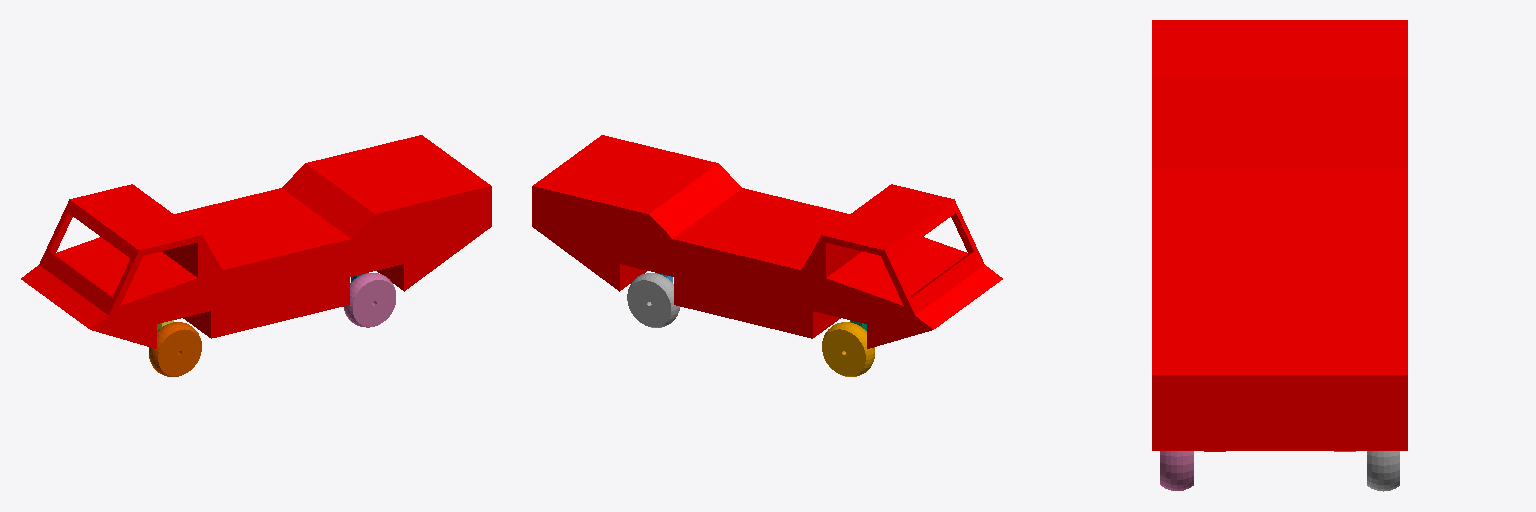
--- What the picture shows (computed from the rendered views, not written in the file) ---
The picture shows the robot from 3 angles, left to right: view 1: azimuth 30°, elevation 25°; view 2: azimuth 150°, elevation 25°; view 3: azimuth 270°, elevation 25°; orthographic projection.
Robot: robot — 9 links, 8 joints (8 continuous); root link b_CraneBody_001_; default pose: all joints at 0.
Links seen in each view (by area): view 1: b_CraneBody_001_, b_Wheel_001_, b_Wheel_001_001; view 2: b_CraneBody_001_, b_Wheel_001_003, b_Wheel_001_002; view 3: b_CraneBody_001_, b_Wheel_001_001, b_Wheel_001_002.
Boxes of the visible links, bbox=[...] form: b_CraneBody_001_: bbox=[21, 135, 491, 348]; b_Wheel_001_: bbox=[149, 322, 201, 376]; b_Wheel_001_001: bbox=[344, 273, 395, 327]; b_CraneBody_001_: bbox=[532, 135, 1002, 348]; b_Wheel_001_003: bbox=[822, 322, 874, 376]; b_Wheel_001_002: bbox=[627, 273, 679, 327]; b_CraneBody_001_: bbox=[1152, 20, 1407, 450]; b_Wheel_001_001: bbox=[1160, 451, 1193, 490]; b_Wheel_001_002: bbox=[1367, 451, 1399, 491].
Bounding box of the posed robot: 133 × 40 × 44.51 m (x, y, z).
Meshes: 9 distinct files referenced, 9 mesh visuals loaded (9 OBJ).

URDF robot description (robot):
<?xml version="1.0" ?>
<robot name="robot">
    
    
    
    
    
    
    
    
    
    
    
    
    
    
    <link name="b_CraneBody_001_">
        
        
        
        
        
        
        
        
        
        
        
        
        
        
        <visual>
            
            
            
            
            
            
            
            
            
            
            
            
            
            
            <geometry>
                
                
                
                
                
                
                
                
                
                
                
                
                
                
                <mesh filename="b_CraneBody_001_.obj"/>
                
                
                
                
                
                
                
            
            
            
            
            
            
            
            </geometry>
            
            
            
            
            
            
            
            
            
            
            
            
            
            
            <origin xyz="0 0 0" rpy="0 0 0"/>
            
            
            
            
            
            
            
            
            
            
            
            
            
            
            <material name="visual_material">
                
                
                
                
                
                
                
                
                
                
                
                
                
                
                <color rgba="1 0 0 1"/>
                
                
                
                
                
                
                
            
            
            
            
            
            
            
            </material>
            
            
            
            
            
            
            
        
        
        
        
        
        
        
        </visual>
        
        
        
        
        
        
        
        
        
        
        
        
        
        
        <inertial>
            
            
            
            
            
            
            
            
            
            
            
            
            
            
            <mass value="1"/>
            
            
            
            
            
            
            
            
            
            
            
            
            
            
            <origin xyz="0 0 0" rpy="0 0 0"/>
            
            
            
            
            
            
            
            
            
            
            
            
            
            
            <inertia ixx="1" ixy="0" ixz="0" iyy="1" iyz="0" izz="1"/>
            
            
            
            
            
            
            
        
        
        
        
        
        
        
        </inertial>
        
        
        
        
        
        
        
        
        
        
        
        
        
        
        <collision>
            
            
            
            
            
            
            
            
            
            
            
            
            
            
            <geometry>
                
                
                
                
                
                
                
                
                
                
                
                
                
                
                <mesh filename="b_CraneBody_001_.obj"/>
                
                
                
                
                
                
                
            
            
            
            
            
            
            
            </geometry>
            
            
            
            
            
            
            
            
            
            
            
            
            
            
            <origin xyz="0 0 0" rpy="0 0 0"/>
            
            
            
            
            
            
            
        
        
        
        
        
        
        
        </collision>
        
        
        
        
        
        
        
    
    
    
    
    
    
    
    </link>
    
    
    
    
    
    
    
    
    
    
    
    
    
    
    <joint name="Revolute_continuous_001" type="continuous">
        
        
        
        
        
        
        
        
        
        
        
        
        
        
        <parent link="b_CraneBody_001_"/>
        
        
        
        
        
        
        
        
        
        
        
        
        
        
        <child link="b_WheelTurner_001_"/>
        
        
        
        
        
        
        
        
        
        
        
        
        
        
        <origin rpy="0 0 0" xyz="17.254223000000007 -10.000000000000002 8.006339732172137"/>
        
        
        
        
        
        
        
        
        
        
        
        
        
        
        <axis xyz="0.0 0.0 1.0"/>
        
        
        
        
        
        
        
        
        
        
        
        
        
        
        <limit velocity="10000000"/>
        
        
        
        
        
        
        
    
    
    
    
    
    
    
    </joint>
    
    
    
    
    
    
    
    
    
    
    
    
    
    
    <link name="b_WheelTurner_001_">
        
        
        
        
        
        
        
        
        
        
        
        
        
        
        <visual>
            
            
            
            
            
            
            
            
            
            
            
            
            
            
            <origin xyz="-17.254223000000007 10.000000000000002 -8.006339732172137" rpy="0 0 0"/>
            
            
            
            
            
            
            
            
            
            
            
            
            
            
            <geometry>
                
                
                
                
                
                
                
                
                
                
                
                
                
                
                <mesh filename="b_WheelTurner_001_.obj"/>
                
                
                
                
                
                
                
            
            
            
            
            
            
            
            </geometry>
            
            
            
            
            
            
            
        
        
        
        
        
        
        
        </visual>
        
        
        
        
        
        
        
        
        
        
        
        
        
        
        <inertial>
            
            
            
            
            
            
            
            
            
            
            
            
            
            
            <mass value="1"/>
            
            
            
            
            
            
            
            
            
            
            
            
            
            
            <origin xyz="0 0 0"/>
            
            
            
            
            
            
            
            
            
            
            
            
            
            
            <inertia ixx="1065.454346" ixy="-0.000000" ixz="-0.000000" iyy="977.780767" iyz="94.756588" izz="430.317097"/>
            
            
            
            
            
            
            
        
        
        
        
        
        
        
        </inertial>
        
        
        
        
        
        
        
        
        
        
        
        
        
        
        <collision>
            
            
            
            
            
            
            
            
            
            
            
            
            
            
            <geometry>
                
                
                
                
                
                
                
                
                
                
                
                
                
                
                <mesh filename="b_WheelTurner_001_.obj"/>
                
                
                
                
                
                
                
            
            
            
            
            
            
            
            </geometry>
            
            
            
            
            
            
            
            
            
            
            
            
            
            
            <origin xyz="-17.254223000000007 10.000000000000002 -8.006339732172137" rpy="0 0 0"/>
            
            
            
            
            
            
            
        
        
        
        
        
        
        
        </collision>
        
        
        
        
        
        
        
    
    
    
    
    
    
    
    </link>
    
    
    
    
    
    
    

    
    
    
    
    
    
    <joint name="Revolute_continuous_002" type="continuous">
        
        
        
        
        
        
        
        
        
        
        
        
        <parent link="b_CraneBody_001_"/>
        
        
        
        
        
        
        
        
        
        
        
        
        <child link="b_WheelTurner_001_001"/>
        
        
        
        
        
        
        
        
        
        
        
        
        <origin rpy="0 0 0" xyz="-47.15060000000001 -10.000000000000002 8.006339732172137"/>
        
        
        
        
        
        
        
        
        
        
        
        
        <axis xyz="0.0 0.0 1.0"/>
        
        
        
        
        
        
        
        
        
        
        
        
        <limit velocity="10000000"/>
        
        
        
        
        
        
    
    
    
    
    
    
    </joint>
    
    
    
    
    
    
    
    
    
    
    
    
    <link name="b_WheelTurner_001_001">
        
        
        
        
        
        
        
        
        
        
        
        
        <visual>
            
            
            
            
            
            
            
            
            
            
            
            
            <origin xyz="47.15060000000001 10.000000000000002 -8.006339732172137" rpy="0 0 0"/>
            
            
            
            
            
            
            
            
            
            
            
            
            <geometry>
                
                
                
                
                
                
                
                
                
                
                
                
                <mesh filename="b_WheelTurner_001_001.obj"/>
                
                
                
                
                
                
            
            
            
            
            
            
            </geometry>
            
            
            
            
            
            
        
        
        
        
        
        
        </visual>
        
        
        
        
        
        
        
        
        
        
        
        
        <inertial>
            
            
            
            
            
            
            
            
            
            
            
            
            <mass value="1"/>
            
            
            
            
            
            
            
            
            
            
            
            
            <origin xyz="0 0 0"/>
            
            
            
            
            
            
            
            
            
            
            
            
            <inertia ixx="1065.454346" ixy="-0.000000" ixz="-0.000000" iyy="977.780767" iyz="94.756588" izz="430.317097"/>
            
            
            
            
            
            
        
        
        
        
        
        
        </inertial>
        
        
        
        
        
        
        
        
        
        
        
        
        <collision>
            
            
            
            
            
            
            
            
            
            
            
            
            <geometry>
                
                
                
                
                
                
                
                
                
                
                
                
                <mesh filename="b_WheelTurner_001_001.obj"/>
                
                
                
                
                
                
            
            
            
            
            
            
            </geometry>
            
            
            
            
            
            
            
            
            
            
            
            
            <origin xyz="47.15060000000001 10.000000000000002 -8.006339732172137" rpy="0 0 0"/>
            
            
            
            
            
            
        
        
        
        
        
        
        </collision>
        
        
        
        
        
        
    
    
    
    
    
    
    </link>
    
    
    
    
    
    

    
    
    
    
    
    <joint name="Revolute_continuous_003" type="continuous">
        
        
        
        
        
        
        
        
        
        
        <parent link="b_CraneBody_001_"/>
        
        
        
        
        
        
        
        
        
        
        <child link="b_WheelTurner_001_002"/>
        
        
        
        
        
        
        
        
        
        
        <origin rpy="0 0 0" xyz="-47.15060000000001 -30.000000000000004 8.006339732172131"/>
        
        
        
        
        
        
        
        
        
        
        <axis xyz="0.0 0.0 1.0"/>
        
        
        
        
        
        
        
        
        
        
        <limit velocity="10000000"/>
        
        
        
        
        
    
    
    
    
    
    </joint>
    
    
    
    
    
    
    
    
    
    
    <link name="b_WheelTurner_001_002">
        
        
        
        
        
        
        
        
        
        
        <visual>
            
            
            
            
            
            
            
            
            
            
            <origin xyz="47.15060000000001 30.000000000000004 -8.006339732172131" rpy="0 0 0"/>
            
            
            
            
            
            
            
            
            
            
            <geometry>
                
                
                
                
                
                
                
                
                
                
                <mesh filename="b_WheelTurner_001_002.obj"/>
                
                
                
                
                
            
            
            
            
            
            </geometry>
            
            
            
            
            
        
        
        
        
        
        </visual>
        
        
        
        
        
        
        
        
        
        
        <inertial>
            
            
            
            
            
            
            
            
            
            
            <mass value="1"/>
            
            
            
            
            
            
            
            
            
            
            <origin xyz="0 0 0"/>
            
            
            
            
            
            
            
            
            
            
            <inertia ixx="1065.454346" ixy="-0.000000" ixz="0.000000" iyy="977.780767" iyz="-94.756588" izz="430.317097"/>
            
            
            
            
            
        
        
        
        
        
        </inertial>
        
        
        
        
        
        
        
        
        
        
        <collision>
            
            
            
            
            
            
            
            
            
            
            <geometry>
                
                
                
                
                
                
                
                
                
                
                <mesh filename="b_WheelTurner_001_002.obj"/>
                
                
                
                
                
            
            
            
            
            
            </geometry>
            
            
            
            
            
            
            
            
            
            
            <origin xyz="47.15060000000001 30.000000000000004 -8.006339732172131" rpy="0 0 0"/>
            
            
            
            
            
        
        
        
        
        
        </collision>
        
        
        
        
        
    
    
    
    
    
    </link>
    
    
    
    
    

    
    
    
    
    <joint name="Revolute_continuous_004" type="continuous">
        
        
        
        
        
        
        
        
        <parent link="b_CraneBody_001_"/>
        
        
        
        
        
        
        
        
        <child link="b_WheelTurner_001_003"/>
        
        
        
        
        
        
        
        
        <origin rpy="0 0 0" xyz="17.254223000000007 -30.000000000000004 8.006339732172131"/>
        
        
        
        
        
        
        
        
        <axis xyz="0.0 0.0 1.0"/>
        
        
        
        
        
        
        
        
        <limit velocity="10000000"/>
        
        
        
        
    
    
    
    
    </joint>
    
    
    
    
    
    
    
    
    <link name="b_WheelTurner_001_003">
        
        
        
        
        
        
        
        
        <visual>
            
            
            
            
            
            
            
            
            <origin xyz="-17.254223000000007 30.000000000000004 -8.006339732172131" rpy="0 0 0"/>
            
            
            
            
            
            
            
            
            <geometry>
                
                
                
                
                
                
                
                
                <mesh filename="b_WheelTurner_001_003.obj"/>
                
                
                
                
            
            
            
            
            </geometry>
            
            
            
            
        
        
        
        
        </visual>
        
        
        
        
        
        
        
        
        <inertial>
            
            
            
            
            
            
            
            
            <mass value="1"/>
            
            
            
            
            
            
            
            
            <origin xyz="0 0 0"/>
            
            
            
            
            
            
            
            
            <inertia ixx="1065.454346" ixy="-0.000000" ixz="-0.000000" iyy="977.780767" iyz="-94.756588" izz="430.317097"/>
            
            
            
            
        
        
        
        
        </inertial>
        
        
        
        
        
        
        
        
        <collision>
            
            
            
            
            
            
            
            
            <geometry>
                
                
                
                
                
                
                
                
                <mesh filename="b_WheelTurner_001_003.obj"/>
                
                
                
                
            
            
            
            
            </geometry>
            
            
            
            
            
            
            
            
            <origin xyz="-17.254223000000007 30.000000000000004 -8.006339732172131" rpy="0 0 0"/>
            
            
            
            
        
        
        
        
        </collision>
        
        
        
        
    
    
    
    
    </link>
    
    
    
    

    
    
    
    <joint name="Revolute_continuous_005" type="continuous">
        
        
        
        
        
        
        <parent link="b_WheelTurner_001_002"/>
        
        
        
        
        
        
        <child link="b_Wheel_001_"/>
        
        
        
        
        
        
        <origin rpy="0 0 0" xyz="3.7030432054052653e-09 -3.9615950869385976 -6.565306782709249"/>
        
        
        
        
        
        
        <axis xyz="0.0 -1.0 -4.440892098500626e-16"/>
        
        
        
        
        
        
        <limit velocity="10000000"/>
        
        
        
    
    
    
    </joint>
    
    
    
    
    
    
    <link name="b_Wheel_001_">
        
        
        
        
        
        
        <visual>
            
            
            
            
            
            
            <origin xyz="47.15059999629697 33.9615950869386 -1.4410329494628824" rpy="0 0 0"/>
            
            
            
            
            
            
            <geometry>
                
                
                
                
                
                
                <mesh filename="b_Wheel_001_.obj"/>
                
                
                
            
            
            
            </geometry>
            
            
            
        
        
        
        </visual>
        
        
        
        
        
        
        <inertial>
            
            
            
            
            
            
            <mass value="1"/>
            
            
            
            
            
            
            <origin xyz="0 0 0"/>
            
            
            
            
            
            
            <inertia ixx="18671.295034" ixy="-0.000000" ixz="0.000000" iyy="32809.570888" iyz="-0.000000" izz="18671.295034"/>
            
            
            
        
        
        
        </inertial>
        
        
        
        
        
        
        <collision>
            
            
            
            
            
            
            <geometry>
                
                
                
                
                
                
                <mesh filename="b_Wheel_001_.obj"/>
                
                
                
            
            
            
            </geometry>
            
            
            
            
            
            
            <origin xyz="47.15059999629697 33.9615950869386 -1.4410329494628824" rpy="0 0 0"/>
            
            
            
        
        
        
        </collision>
        
        
        
    
    
    
    </link>
    
    
    

    
    
    <joint name="Revolute_continuous_006" type="continuous">
        
        
        
        
        <parent link="b_WheelTurner_001_003"/>
        
        
        
        
        <child link="b_Wheel_001_001"/>
        
        
        
        
        <origin rpy="0 0 0" xyz="-3.786571056707544e-09 -3.9615950957888977 -5.893492817865499"/>
        
        
        
        
        <axis xyz="0.0 -1.0 -4.440892098500626e-16"/>
        
        
        
        
        <limit velocity="10000000"/>
        
        
    
    
    </joint>
    
    
    
    
    <link name="b_Wheel_001_001">
        
        
        
        
        <visual>
            
            
            
            
            <origin xyz="-17.254222996213436 33.9615950957889 -2.1128469143066324" rpy="0 0 0"/>
            
            
            
            
            <geometry>
                
                
                
                
                <mesh filename="b_Wheel_001_001.obj"/>
                
                
            
            
            </geometry>
            
            
        
        
        </visual>
        
        
        
        
        <inertial>
            
            
            
            
            <mass value="1"/>
            
            
            
            
            <origin xyz="0 0 0"/>
            
            
            
            
            <inertia ixx="18671.295034" ixy="-0.000000" ixz="0.000000" iyy="32809.570888" iyz="-0.000000" izz="18671.295034"/>
            
            
        
        
        </inertial>
        
        
        
        
        <collision>
            
            
            
            
            <geometry>
                
                
                
                
                <mesh filename="b_Wheel_001_001.obj"/>
                
                
            
            
            </geometry>
            
            
            
            
            <origin xyz="-17.254222996213436 33.9615950957889 -2.1128469143066324" rpy="0 0 0"/>
            
            
        
        
        </collision>
        
        
    
    
    </link>
    
    

    
    <joint name="Revolute_continuous_007" type="continuous">
        
        
        <parent link="b_WheelTurner_001_"/>
        
        
        <child link="b_Wheel_001_002"/>
        
        
        <origin rpy="0 0 0" xyz="1.0188220045392882e-08 3.961595087241097 -5.937953114496357"/>
        
        
        <axis xyz="0.0 -1.0 0.0"/>
        
        
        <limit velocity="10000000"/>
        
    
    </joint>
    
    
    <link name="b_Wheel_001_002">
        
        
        <visual>
            
            
            <origin xyz="-17.254223010188227 6.038404912758905 -2.06838661767578" rpy="0 0 0"/>
            
            
            <geometry>
                
                
                <mesh filename="b_Wheel_001_002.obj"/>
                
            
            </geometry>
            
        
        </visual>
        
        
        <inertial>
            
            
            <mass value="1"/>
            
            
            <origin xyz="0 0 0"/>
            
            
            <inertia ixx="18671.295034" ixy="-0.000000" ixz="0.000000" iyy="32809.570888" iyz="-0.000000" izz="18671.295034"/>
            
        
        </inertial>
        
        
        <collision>
            
            
            <geometry>
                
                
                <mesh filename="b_Wheel_001_002.obj"/>
                
            
            </geometry>
            
            
            <origin xyz="-17.254223010188227 6.038404912758905 -2.06838661767578" rpy="0 0 0"/>
            
        
        </collision>
        
    
    </link>
    

    <joint name="Revolute_continuous_008" type="continuous">
        <parent link="b_WheelTurner_001_001"/>
        <child link="b_Wheel_001_003"/>
        <origin rpy="0 0 0" xyz="1.0091838476000703e-09 3.9615950579025103 -6.542214512811786"/>
        <axis xyz="0.0 -1.0 -2.220446049250313e-16"/>
        <limit velocity="10000000"/>
    </joint>
    <link name="b_Wheel_001_003">
        <visual>
            <origin xyz="47.15059999899083 6.0384049420974915 -1.4641252193603504" rpy="0 0 0"/>
            <geometry>
                <mesh filename="b_Wheel_001_003.obj"/>
            </geometry>
        </visual>
        <inertial>
            <mass value="1"/>
            <origin xyz="0 0 0"/>
            <inertia ixx="18671.295034" ixy="-0.000000" ixz="0.000000" iyy="32809.570888" iyz="-0.000000" izz="18671.295034"/>
        </inertial>
        <collision>
            <geometry>
                <mesh filename="b_Wheel_001_003.obj"/>
            </geometry>
            <origin xyz="47.15059999899083 6.0384049420974915 -1.4641252193603504" rpy="0 0 0"/>
        </collision>
    </link>
</robot>
